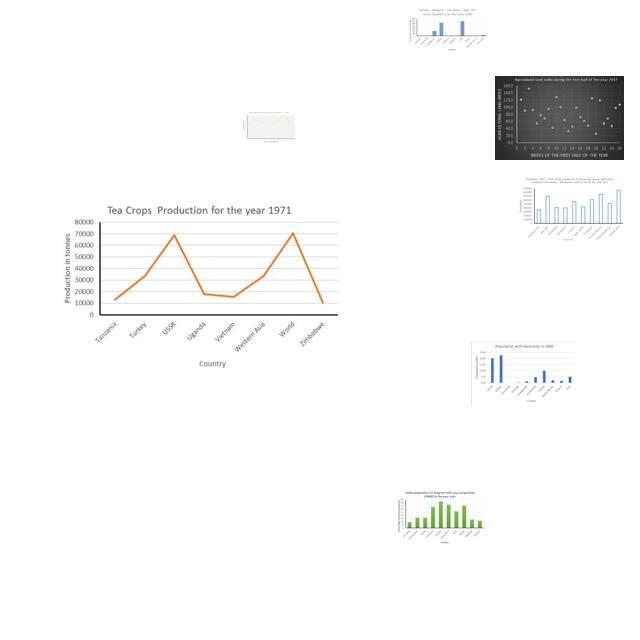Graph: (57, 202, 344, 371), (495, 76, 624, 160), (514, 176, 625, 242), (471, 341, 577, 406), (395, 490, 485, 544), (407, 7, 489, 53), (242, 111, 296, 144)
